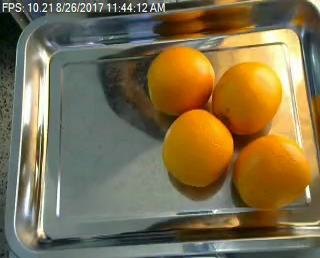Orange: (233, 134, 314, 210), (162, 108, 234, 187), (212, 61, 284, 134), (146, 47, 215, 114)
